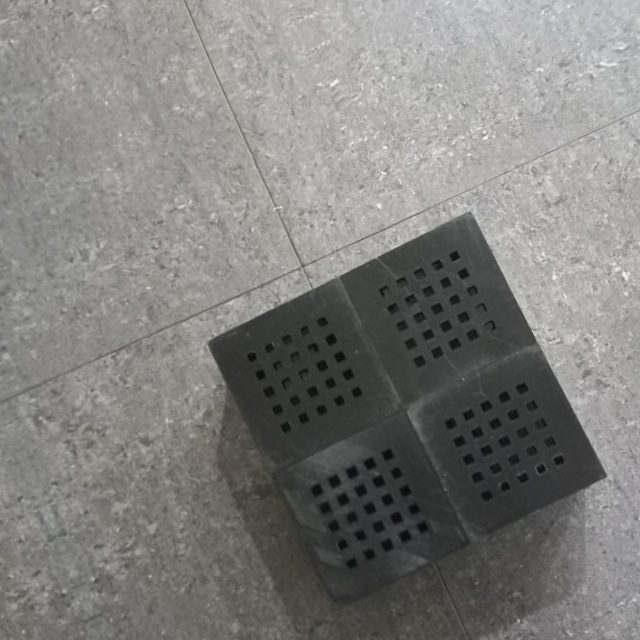pallet: (193, 196, 621, 618)
